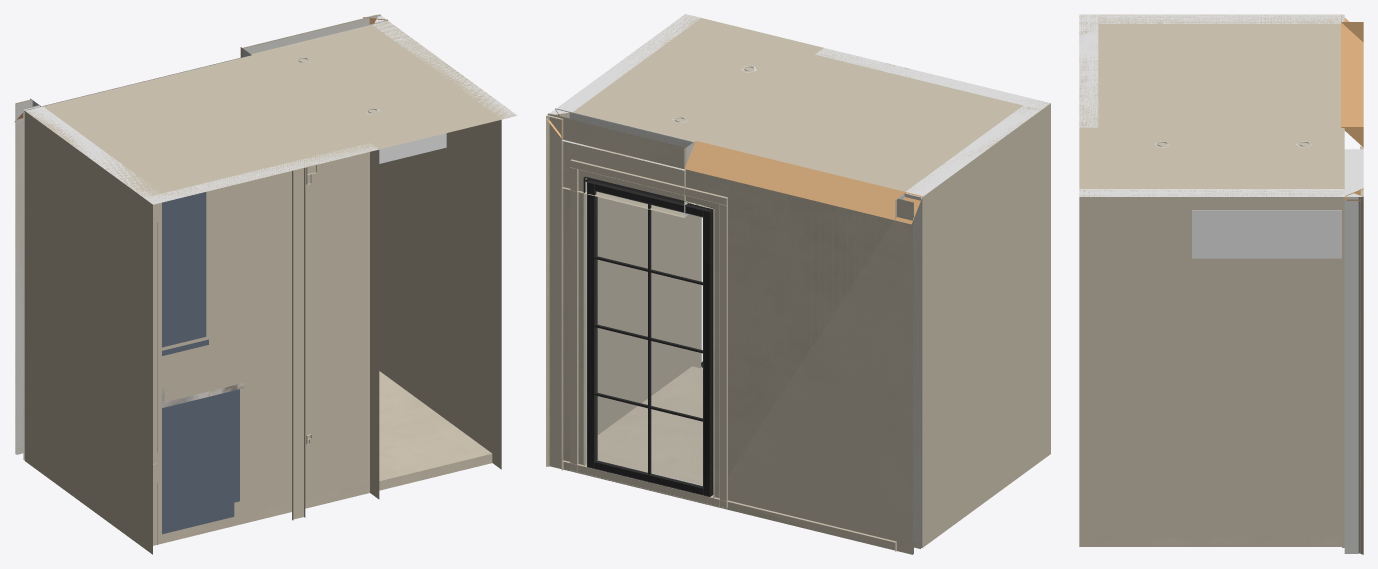
File: laundry-9e4af2ffd409.glb
The picture shows the model from 3 angles, left to right: view 1: azimuth 30°, elevation 25°; view 2: azimuth 150°, elevation 25°; view 3: azimuth 270°, elevation 25°; orthographic projection. The views are drawn at different scales.
Parts seen in each view (by area): view 1: laundry-8d8280a2b3ef8b4c, laundry-9d91b47435c6fb33, laundry-4fe5579be934d30a, laundry-7f59123d155b94ce, laundry-3d7dc14daaac73cc, laundry-1b1650778d28d58a, laundry-cdbda69d535efec9, laundry-64efeecf845bccca, laundry-9a6873bb27e0e1d8, laundry-ca9c0b57f88e5741, laundry-6cbc44f63f815149, laundry-bd62734a7bc60eb7; view 2: laundry-bd62734a7bc60eb7, laundry-ca9c0b57f88e5741, laundry-4fe5579be934d30a, laundry-9d91b47435c6fb33, laundry-09f90213aa0a4493, laundry-7f59123d155b94ce, laundry-1b1650778d28d58a, laundry-9373e00609a5f856, laundry-341dc20a3e1bcc67, laundry-8d8280a2b3ef8b4c, laundry-9a6873bb27e0e1d8, laundry-82fe871d7bda5383 (+2 smaller); view 3: laundry-7f59123d155b94ce, laundry-9d91b47435c6fb33, laundry-6cbc44f63f815149, laundry-9a6873bb27e0e1d8, laundry-341dc20a3e1bcc67, laundry-1b1650778d28d58a, laundry-8d8280a2b3ef8b4c, laundry-4fe5579be934d30a, laundry-82fe871d7bda5383, laundry-bd62734a7bc60eb7.
Part boxes in pixels (x1,y1,x2,y2): laundry-8d8280a2b3ef8b4c: (143, 143, 379, 554); laundry-9d91b47435c6fb33: (25, 21, 515, 203); laundry-4fe5579be934d30a: (24, 106, 158, 547); laundry-7f59123d155b94ce: (373, 14, 517, 469); laundry-3d7dc14daaac73cc: (162, 389, 239, 534); laundry-1b1650778d28d58a: (160, 371, 492, 543); laundry-cdbda69d535efec9: (162, 192, 208, 355); laundry-64efeecf845bccca: (292, 167, 305, 520); laundry-9a6873bb27e0e1d8: (16, 15, 388, 459); laundry-ca9c0b57f88e5741: (15, 14, 380, 453); laundry-6cbc44f63f815149: (379, 133, 446, 163); laundry-bd62734a7bc60eb7: (15, 14, 380, 454); laundry-bd62734a7bc60eb7: (547, 114, 912, 554); laundry-ca9c0b57f88e5741: (549, 114, 913, 554); laundry-4fe5579be934d30a: (904, 106, 1041, 547); laundry-9d91b47435c6fb33: (555, 14, 1050, 191); laundry-09f90213aa0a4493: (583, 176, 714, 497); laundry-7f59123d155b94ce: (546, 14, 701, 466); laundry-1b1650778d28d58a: (562, 366, 896, 551); laundry-9373e00609a5f856: (570, 159, 727, 508); laundry-341dc20a3e1bcc67: (684, 141, 906, 220); laundry-8d8280a2b3ef8b4c: (815, 48, 1050, 460); laundry-9a6873bb27e0e1d8: (548, 112, 920, 553); laundry-82fe871d7bda5383: (570, 113, 922, 548); laundry-7f59123d155b94ce: (1079, 189, 1363, 554); laundry-9d91b47435c6fb33: (1079, 14, 1344, 196); laundry-6cbc44f63f815149: (1192, 149, 1363, 258); laundry-9a6873bb27e0e1d8: (1344, 196, 1358, 553); laundry-341dc20a3e1bcc67: (1341, 22, 1363, 147); laundry-1b1650778d28d58a: (1098, 537, 1341, 546); laundry-8d8280a2b3ef8b4c: (1079, 15, 1098, 127); laundry-4fe5579be934d30a: (1098, 15, 1341, 23); laundry-82fe871d7bda5383: (1342, 14, 1344, 547); laundry-bd62734a7bc60eb7: (1360, 189, 1363, 553).
Bounding box in the file's own units: 2.72 × 2.5 × 1.8.
26 materials, 3 textured.
